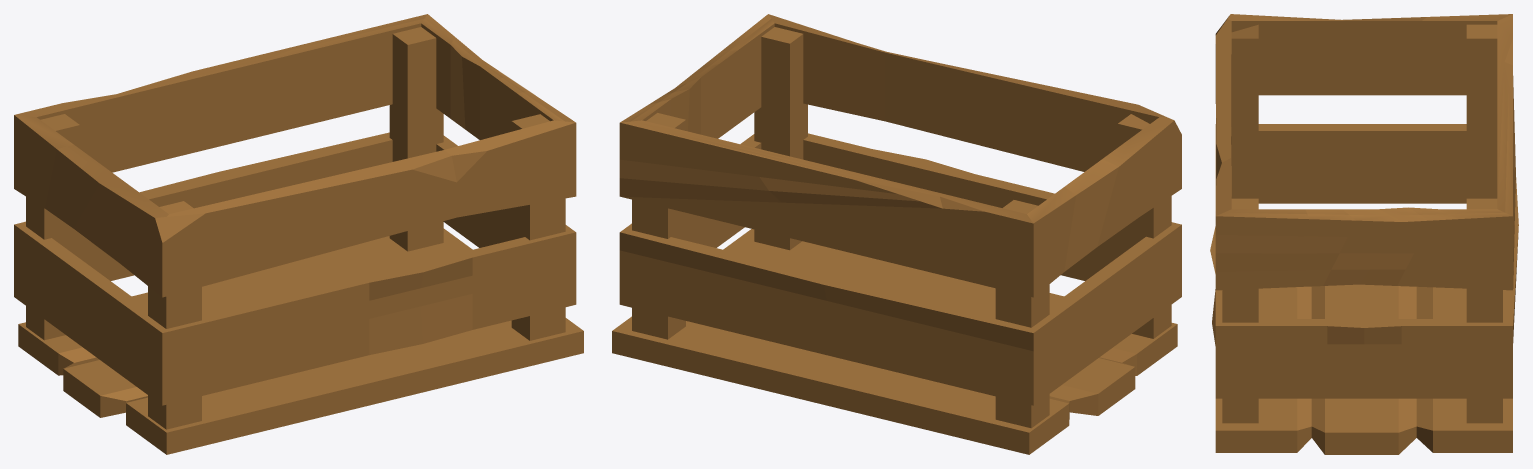
The model's file is crate_04.fbx.
The picture shows the model from 3 angles, left to right: view 1: azimuth 30°, elevation 25°; view 2: azimuth 150°, elevation 25°; view 3: azimuth 270°, elevation 25°; orthographic projection.
Parts seen in each view (by area): view 1: crate; view 2: crate; view 3: crate.
Boxes of the visible parts, x1,y1,x2,y2 form: crate: [14, 14, 583, 454]; crate: [612, 14, 1181, 454]; crate: [1210, 14, 1518, 454].
Bounding box in the file's own units: 92.31 × 47.32 × 56.85.
